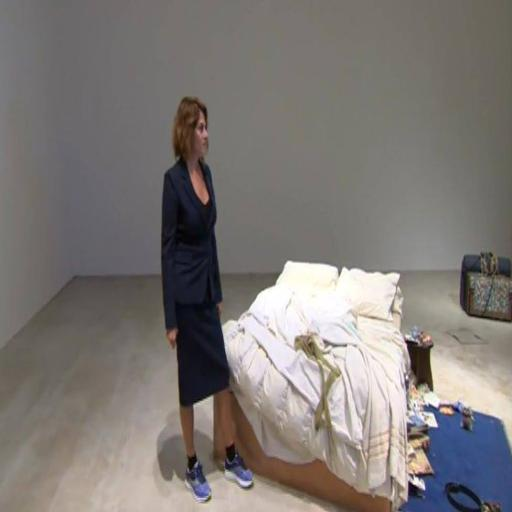laptop: (162, 97, 253, 501)
person: (223, 262, 410, 511)
